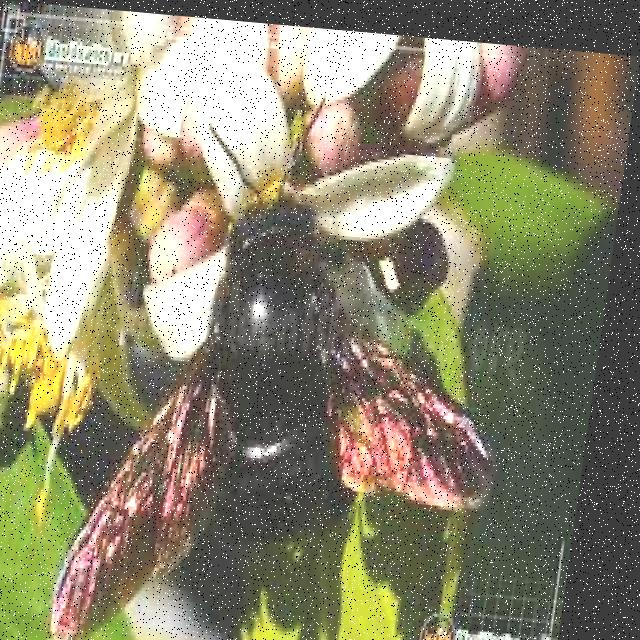Xylocopa: (44, 120, 550, 640)
